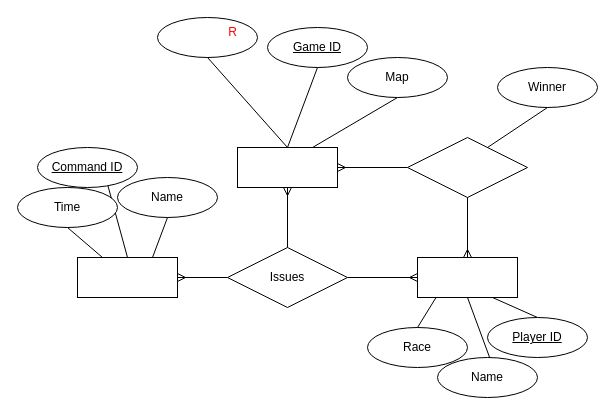
The diagram is 615 pixels wide and 415 high, and some of its shapes have lost their labels. The box of each missing label's shape, as (x1, y1, x2, y2) in pixels:
Commands: (76, 256, 178, 298)
Game: (236, 146, 338, 188)
Mode: (156, 16, 258, 58)
Play: (406, 136, 528, 198)
Player: (416, 256, 518, 298)
